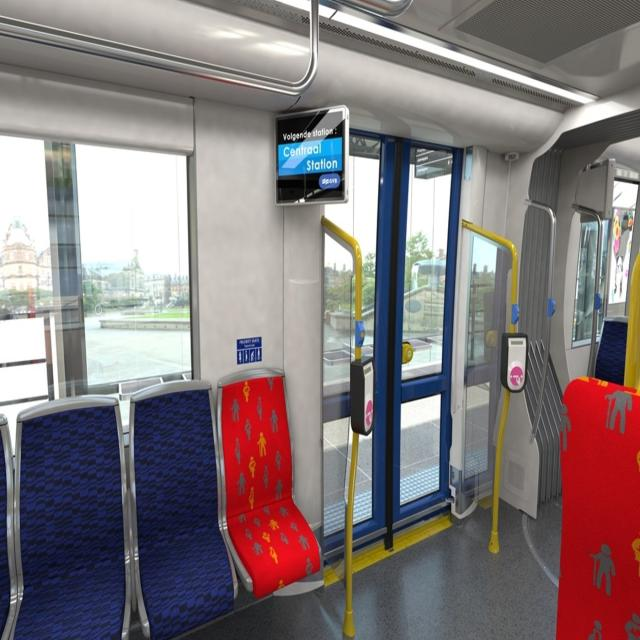empty-seat-frontal: (8, 389, 131, 640), (127, 378, 236, 634), (215, 368, 326, 598)
